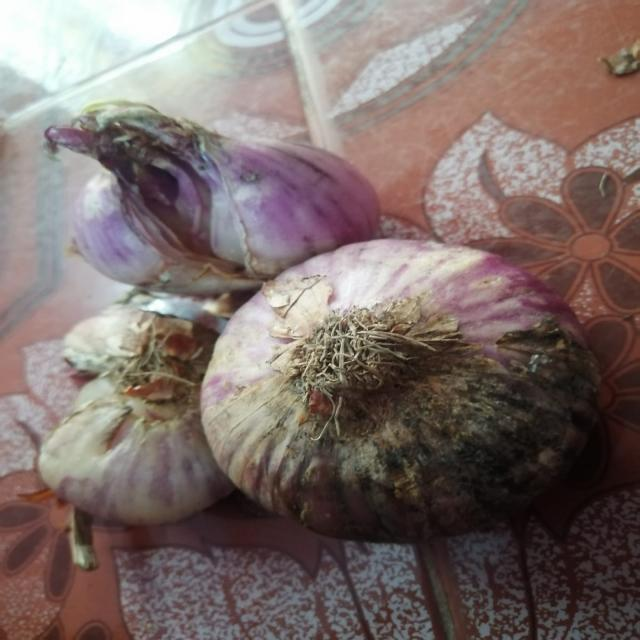rotten: (381, 402, 592, 492), (142, 180, 232, 263), (68, 352, 170, 424)
sprouting: (56, 100, 186, 162)
